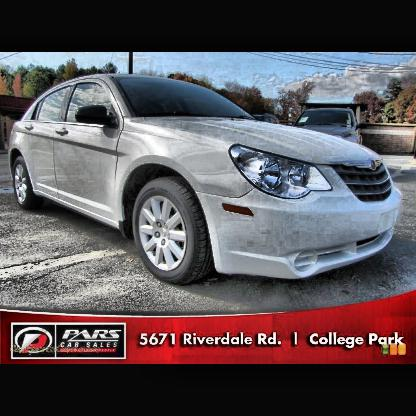Chrysler Sebring Convertible 2010: (11, 75, 400, 283)
